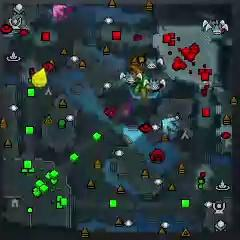p4: (31, 68, 47, 88)
x1: (52, 4, 68, 20)
x2: (134, 82, 148, 98)
x3: (161, 117, 179, 134)
x5: (129, 64, 144, 75)
